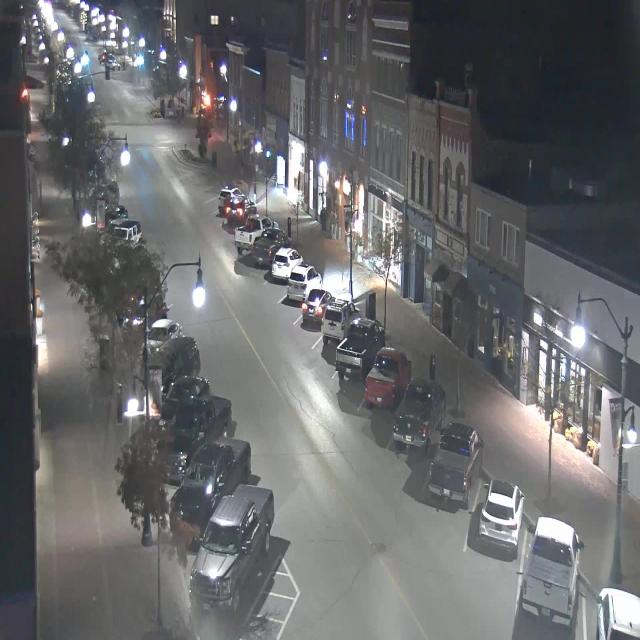occupied: (189, 483, 274, 615), (169, 436, 252, 545), (520, 515, 584, 628), (158, 392, 233, 460), (428, 421, 484, 508), (392, 377, 446, 458), (478, 477, 525, 557), (334, 315, 386, 382), (364, 346, 411, 410), (595, 586, 640, 639), (154, 335, 202, 376), (321, 298, 360, 346), (160, 368, 212, 399), (286, 262, 322, 303), (235, 217, 272, 256), (301, 286, 333, 324), (251, 230, 278, 269), (270, 250, 300, 280), (217, 184, 241, 214), (223, 198, 255, 220)
